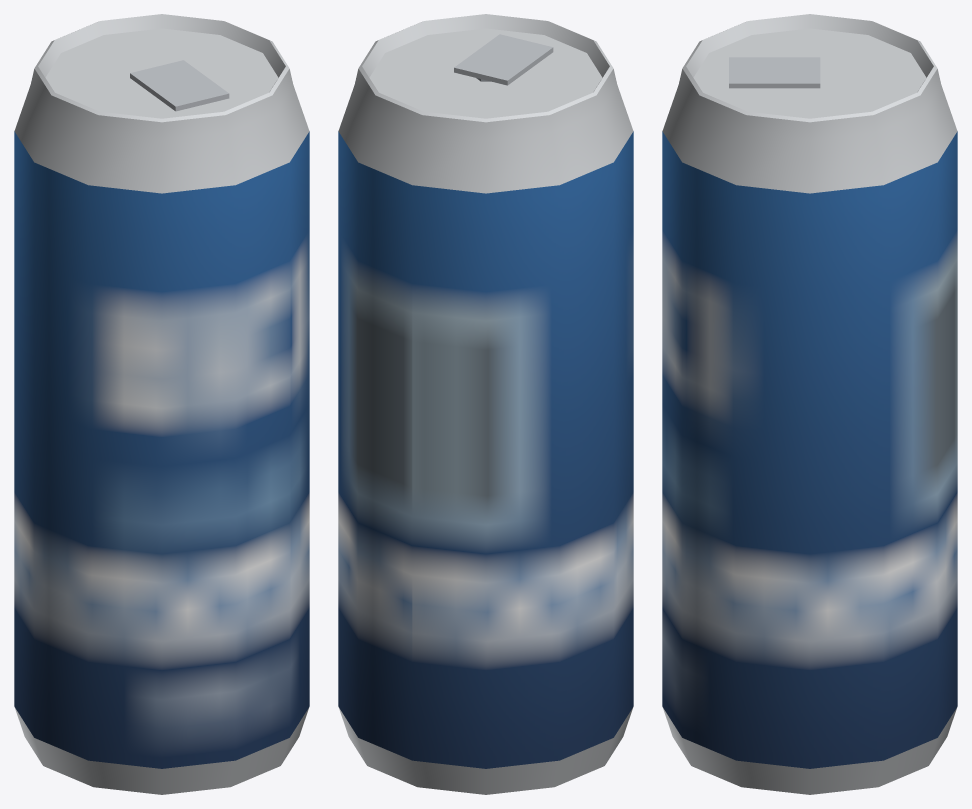
The model's file is SC_Prod_Beer_Can_Lager.gltf.
3 renders of one model, left to right at view 1: azimuth 30°, elevation 25°; view 2: azimuth 150°, elevation 25°; view 3: azimuth 270°, elevation 25°, orthographic.
Parts seen in each view (by area): view 1: SC_Prod_Beer_Can_Lager; view 2: SC_Prod_Beer_Can_Lager; view 3: SC_Prod_Beer_Can_Lager.
Part boxes in pixels (x1,y1,x2,y2): SC_Prod_Beer_Can_Lager: (14,14,309,794); SC_Prod_Beer_Can_Lager: (338,14,633,794); SC_Prod_Beer_Can_Lager: (662,14,957,794).
Bounding box in the file's own units: 0.066 × 0.168 × 0.066.
Materials: 2 (2 with a texture image).
